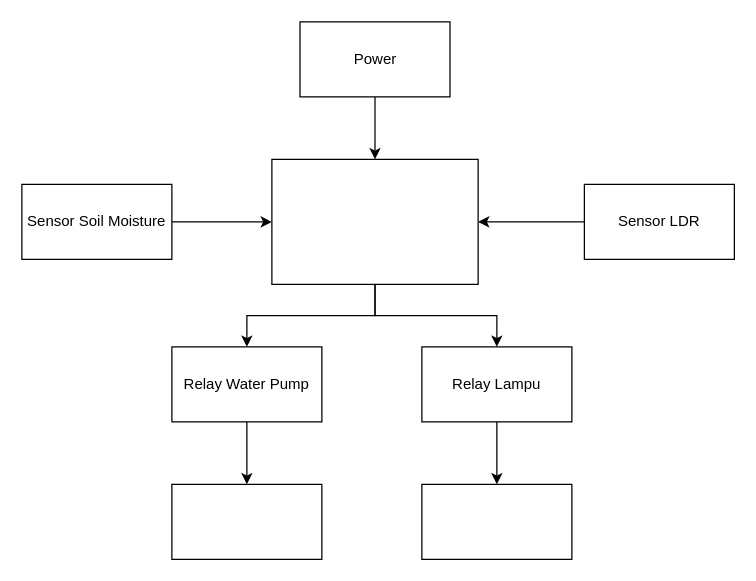
The diagram is 756 pixels wide and 581 high, and some of its shapes have lost their labels. Here are the shapes that lost their labels. From the top down, the centre of each, then its label:
pixel 374 221: Arduino Uno R3
pixel 246 521: Water Pump Mini
pixel 496 521: Lampu
